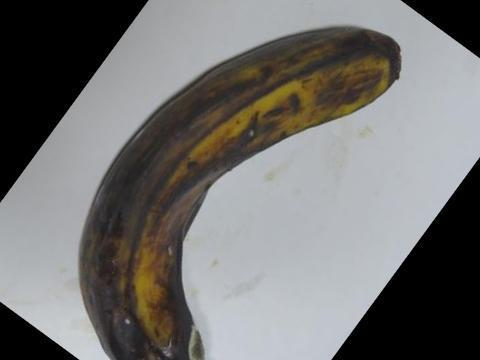rotten: (66, 16, 433, 359)
